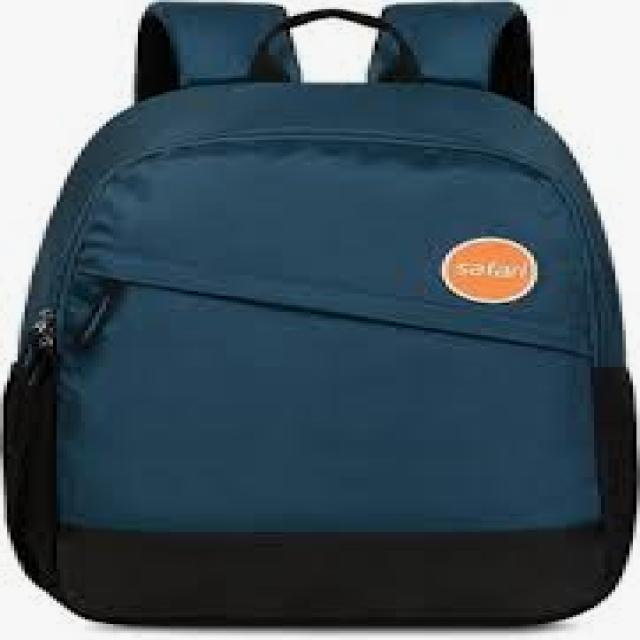backpack: (1, 1, 637, 627)
